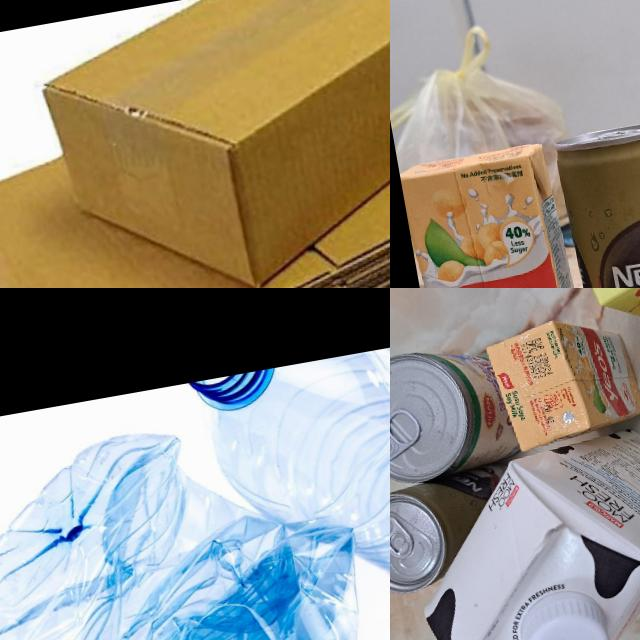aba de lata: (390, 401, 426, 465), (390, 510, 417, 560), (593, 119, 640, 146)
caixinha: (397, 413, 640, 640), (396, 134, 608, 288), (486, 305, 640, 449)
garrafa plástica: (0, 397, 384, 640), (184, 325, 390, 640)
lata: (390, 334, 522, 488), (390, 468, 512, 595), (555, 115, 640, 288)
papelão: (33, 0, 390, 288), (0, 30, 390, 288)
tampa plástica: (506, 578, 618, 640)
